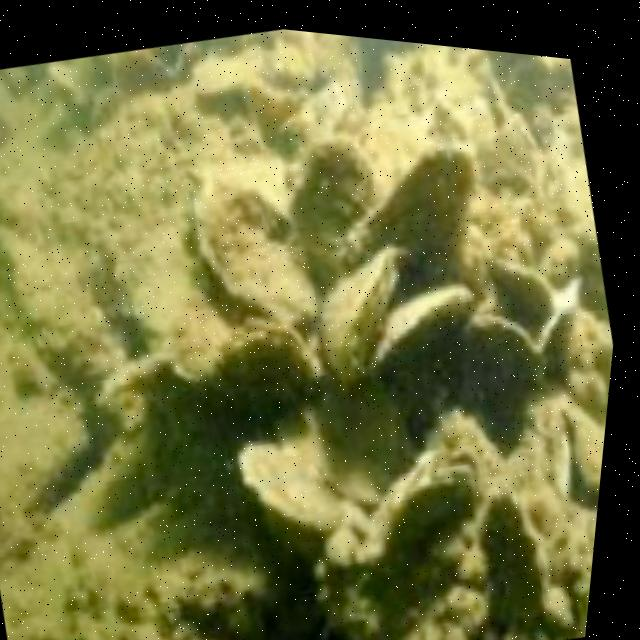Oyster-Closed: (179, 320, 325, 424)
Oyster-Indeterminate: (348, 150, 472, 289), (199, 182, 316, 324), (367, 443, 480, 560), (369, 287, 476, 396), (289, 141, 371, 272), (235, 444, 345, 529), (329, 250, 397, 382), (481, 491, 544, 622)
